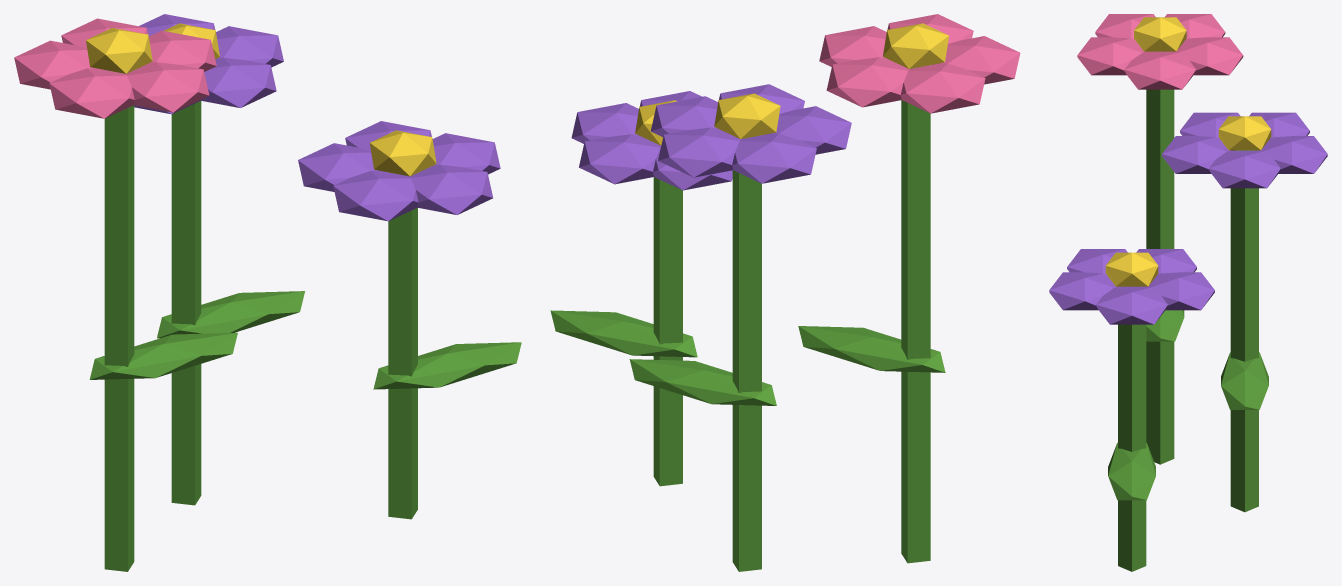
File: nature2_flower_purple.glb
3 renders of one model, left to right at view 1: azimuth 30°, elevation 25°; view 2: azimuth 150°, elevation 25°; view 3: azimuth 270°, elevation 25°, orthographic. The views are drawn at different scales.
Visible parts, largest first — view 1: flower_purple; view 2: flower_purple; view 3: flower_purple.
Part boxes in pixels (x1,y1,x2,y2): flower_purple: (14, 14, 521, 571); flower_purple: (550, 14, 1020, 571); flower_purple: (1049, 14, 1327, 571).
Size of the model in its own units: 0.3152 by 0.3452 by 0.1976.
